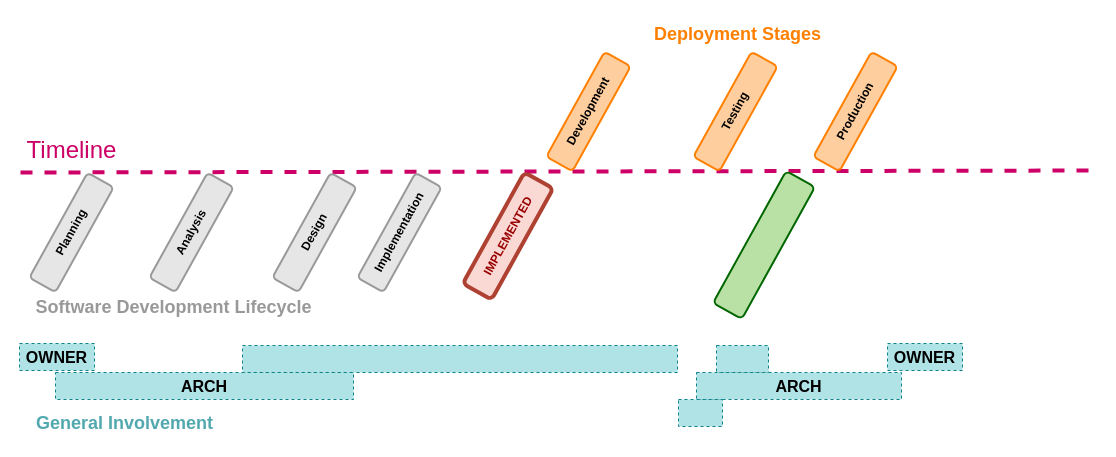
Image size: 1116x457. Some labels were removed from this diagram. Each missing label, with the centre of its shape:
DEV: point (460, 358)
ISO: point (742, 358)
QA: point (700, 412)
System Security Plan: point (763, 244)
